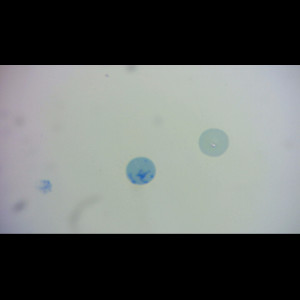aggregate reticulocyte: (124, 155, 157, 186)
erythrocyte: (197, 126, 232, 158)
